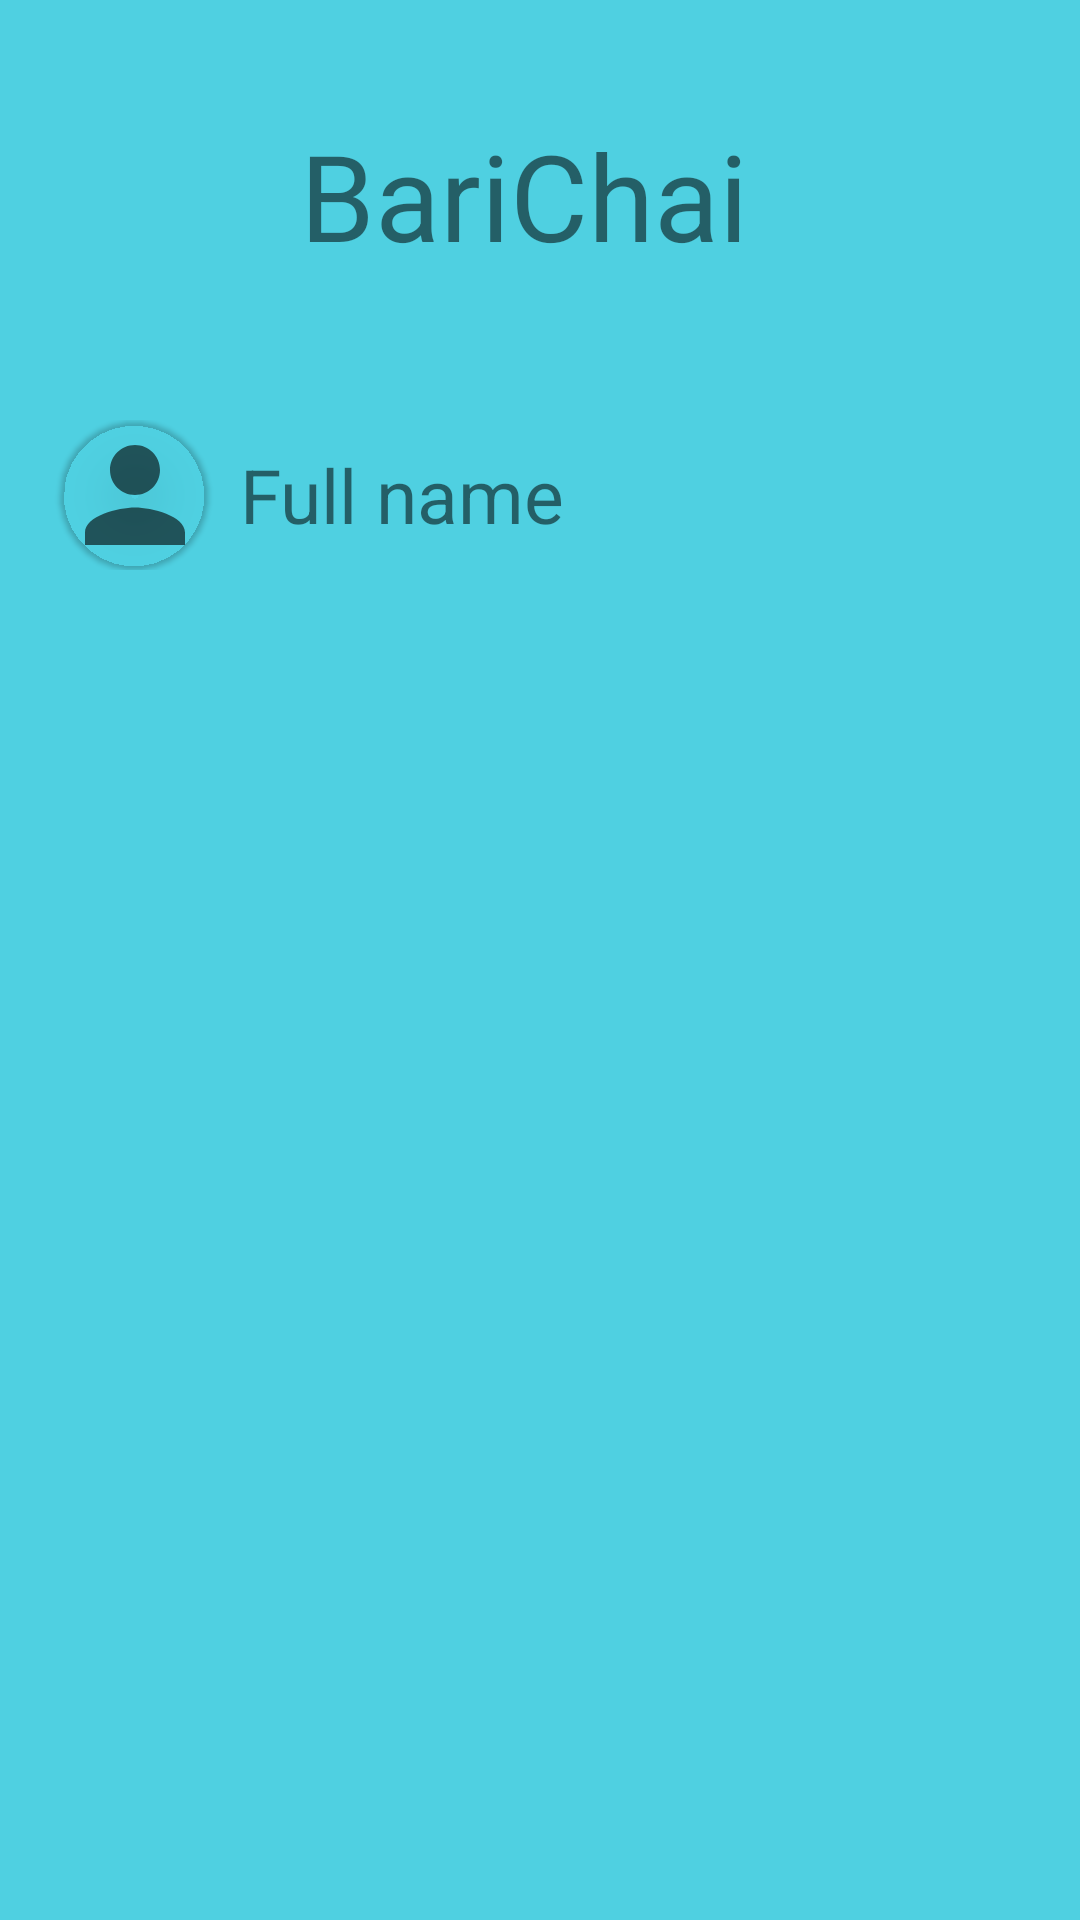

Where icons sit on this 1080px x 1920px app screen, as (x1, y1, x2, y2):
profile: (60, 422, 208, 570)
